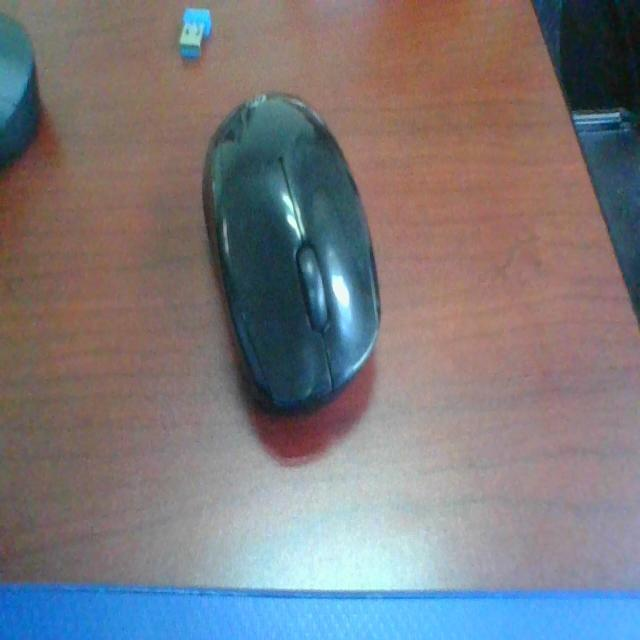Mouse: (192, 84, 391, 418)
